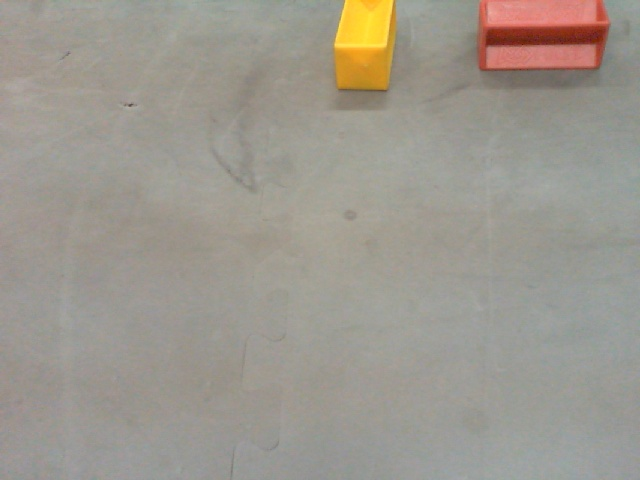RedSample: (476, 1, 611, 75)
YellowSample: (334, 1, 395, 94)
